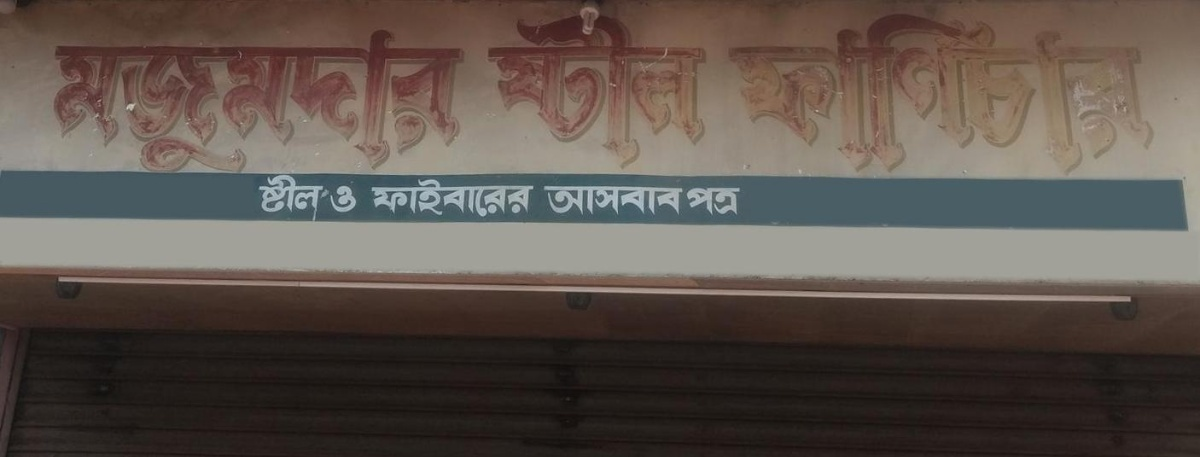text: (737, 10, 752, 178), (753, 10, 768, 178), (769, 10, 784, 178), (785, 10, 800, 178), (801, 10, 816, 178), (817, 10, 832, 178), (833, 10, 848, 178), (849, 10, 864, 178), (865, 10, 880, 178), (881, 10, 896, 178), (897, 10, 912, 178), (913, 10, 928, 178), (929, 10, 944, 178), (945, 10, 960, 178), (961, 10, 976, 178), (977, 10, 992, 178), (993, 10, 1008, 178), (1009, 10, 1024, 178), (1025, 10, 1040, 178), (1041, 10, 1056, 178), (1057, 10, 1072, 178), (1073, 10, 1088, 178), (1089, 10, 1104, 178), (1105, 10, 1120, 178), (1121, 10, 1136, 178), (1137, 10, 1152, 178), (497, 9, 512, 172), (513, 9, 528, 172), (529, 9, 544, 172), (545, 9, 560, 172), (561, 9, 576, 172), (577, 9, 592, 172), (593, 9, 608, 172), (609, 9, 624, 172), (625, 9, 640, 172), (641, 9, 656, 172), (657, 9, 672, 172), (673, 9, 688, 172), (689, 9, 704, 172), (65, 27, 80, 174), (81, 27, 96, 174), (97, 27, 112, 174), (113, 27, 128, 174), (129, 27, 144, 174), (145, 27, 160, 174), (161, 27, 176, 174), (177, 27, 192, 174), (193, 27, 208, 174), (209, 27, 224, 174), (225, 27, 240, 174), (241, 27, 256, 174), (257, 27, 272, 174), (273, 27, 288, 174), (289, 27, 304, 174), (305, 27, 320, 174), (321, 27, 336, 174), (337, 27, 352, 174), (353, 27, 368, 174), (369, 27, 384, 174), (385, 27, 400, 174), (401, 27, 416, 174), (417, 27, 432, 174), (433, 27, 448, 174), (449, 27, 464, 174), (485, 9, 496, 172), (726, 10, 736, 178), (54, 27, 64, 174), (273, 173, 288, 214), (289, 173, 304, 214), (305, 173, 320, 214), (385, 177, 400, 217), (401, 177, 416, 217), (417, 177, 432, 217), (433, 177, 448, 217), (449, 177, 464, 217), (465, 177, 480, 217), (481, 177, 496, 217), (497, 177, 512, 217), (513, 177, 528, 217), (337, 180, 352, 215), (260, 173, 272, 214), (372, 177, 384, 217), (545, 186, 560, 215), (561, 186, 576, 215), (577, 186, 592, 215), (593, 186, 608, 215), (609, 186, 624, 215), (625, 186, 640, 215), (641, 186, 656, 215), (657, 186, 672, 215), (673, 186, 688, 215), (689, 186, 704, 215), (705, 186, 720, 215), (721, 186, 736, 215), (737, 186, 752, 215), (1153, 10, 1155, 178), (705, 9, 707, 172), (529, 177, 536, 217), (353, 180, 359, 215), (321, 173, 326, 214), (331, 180, 336, 215), (465, 27, 466, 174), (753, 186, 758, 215), (542, 186, 544, 215)
